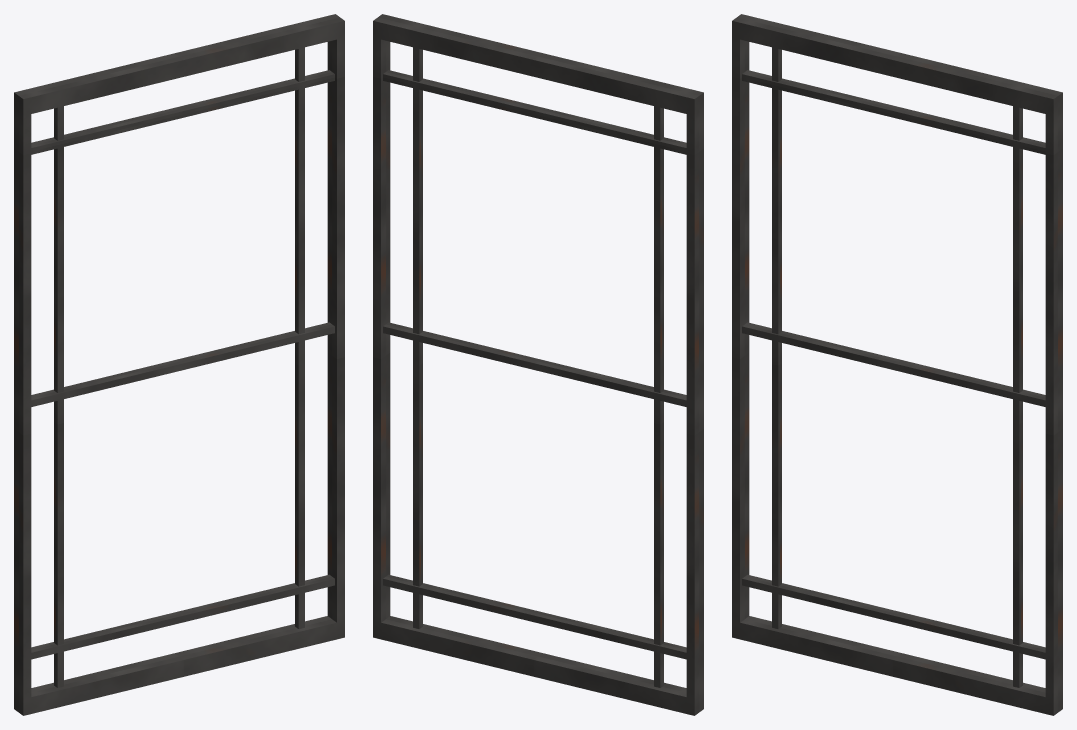
File: Dungeon_Grate_1_LOD2.gltf
The picture shows the model from 3 angles, left to right: view 1: azimuth 30°, elevation 25°; view 2: azimuth 150°, elevation 25°; view 3: azimuth 330°, elevation 25°; orthographic projection.
Parts seen in each view (by area): view 1: Dungeon_Grate_1_LOD2; view 2: Dungeon_Grate_1_LOD2; view 3: Dungeon_Grate_1_LOD2.
Part boxes in pixels (x1,y1,x2,y2): Dungeon_Grate_1_LOD2: (14, 14, 344, 715); Dungeon_Grate_1_LOD2: (373, 14, 703, 715); Dungeon_Grate_1_LOD2: (732, 14, 1062, 715).
Bounding box in the file's own units: 1.2 × 2.2 × 0.06.
Materials: 1 (1 with a texture image).
